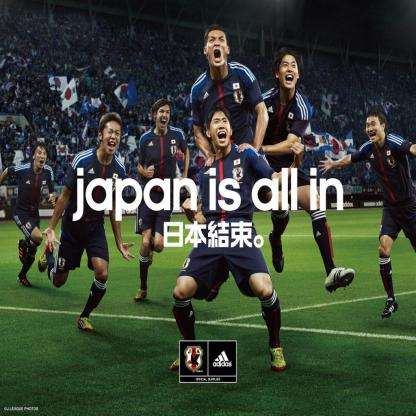face: (211, 112, 232, 149), (208, 31, 228, 68), (280, 56, 299, 90), (104, 122, 122, 156), (367, 118, 383, 144), (157, 105, 171, 131), (36, 147, 48, 170)
